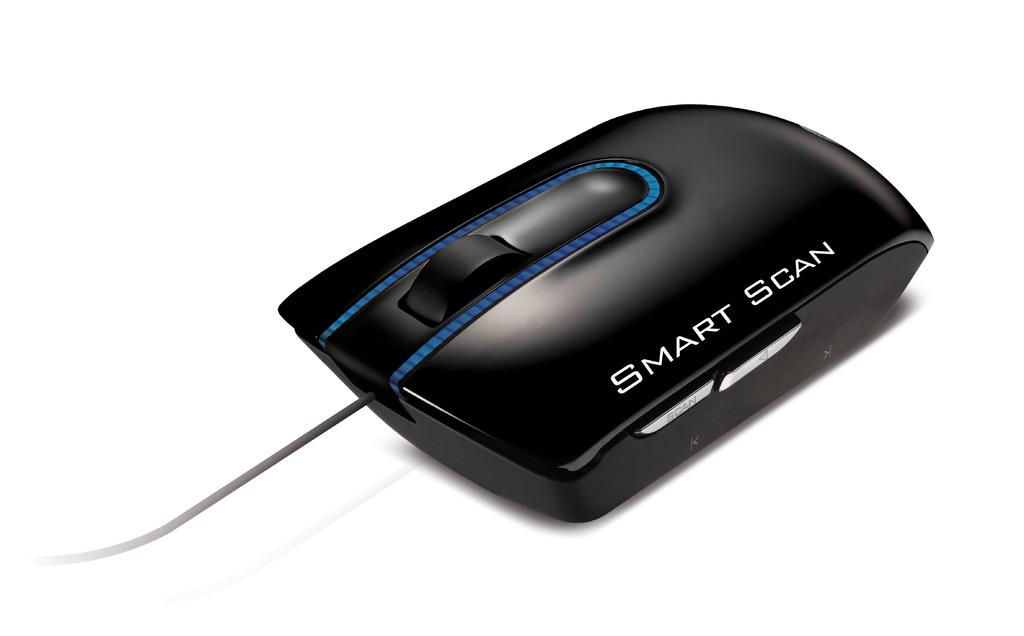Computer-mouse: (279, 105, 938, 521)
